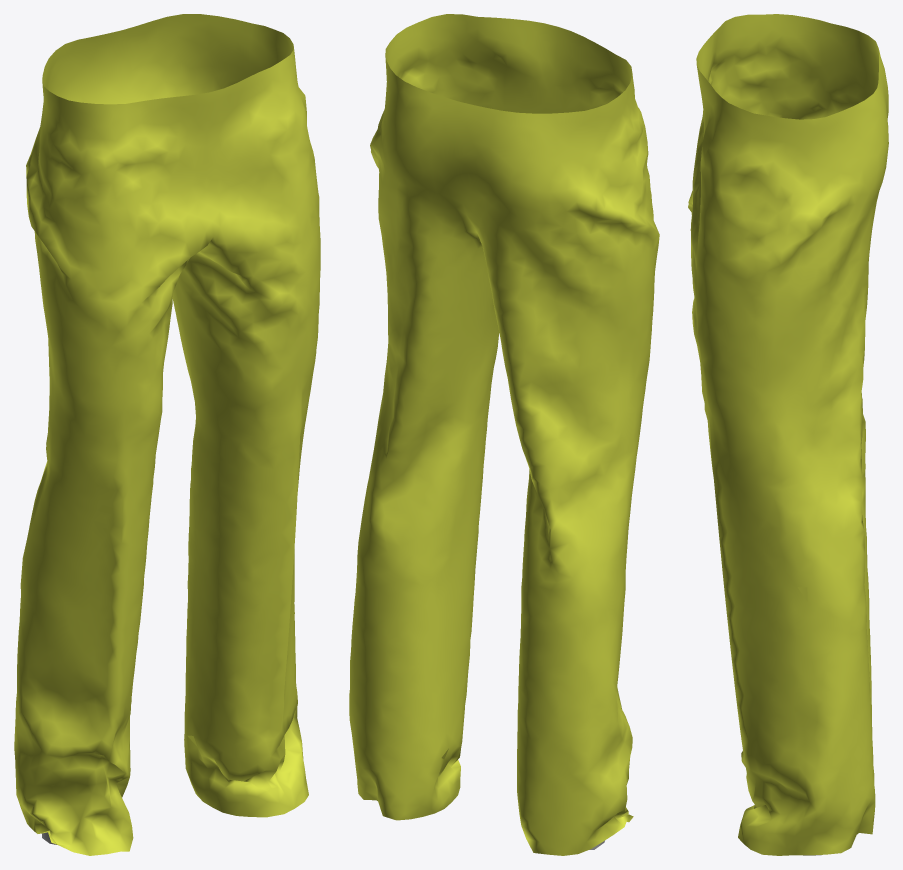
The model's file is trousers.fbx.
The picture shows the model from 3 angles, left to right: view 1: azimuth 30°, elevation 25°; view 2: azimuth 150°, elevation 25°; view 3: azimuth 270°, elevation 25°; orthographic projection. The views are drawn at different scales.
Parts seen in each view (by area): view 1: Pattern2D_15008, Pattern2D_271709, Pattern2D_271710, Pattern2D_271708; view 2: Pattern2D_271708, Pattern2D_271710, Pattern2D_271709, Pattern2D_15008; view 3: Pattern2D_271710, Pattern2D_271709, Pattern2D_15008, Pattern2D_271708.
Part boxes in pixels (box(x1,y1,x2,y2)): Pattern2D_15008: box(26, 86, 213, 855); Pattern2D_271709: box(175, 29, 320, 817); Pattern2D_271710: box(119, 14, 299, 791); Pattern2D_271708: box(14, 30, 121, 833); Pattern2D_271708: box(454, 101, 639, 855); Pattern2D_271710: box(349, 43, 485, 820); Pattern2D_271709: box(389, 14, 558, 813); Pattern2D_15008: box(553, 27, 659, 826); Pattern2D_271710: box(772, 71, 888, 855); Pattern2D_271709: box(690, 59, 810, 855); Pattern2D_15008: box(688, 14, 807, 766); Pattern2D_271708: box(793, 17, 888, 719).
Size of the model in its own units: 3.76 by 9.89 by 2.42.
